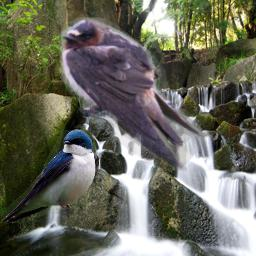Swallow: (58, 17, 205, 171), (1, 129, 99, 224)
